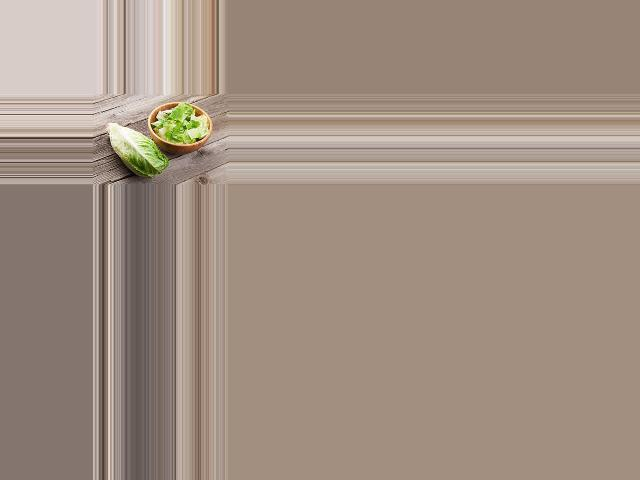lettuce: (108, 122, 168, 179)
